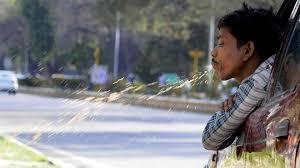spitting: (17, 8, 282, 168)
